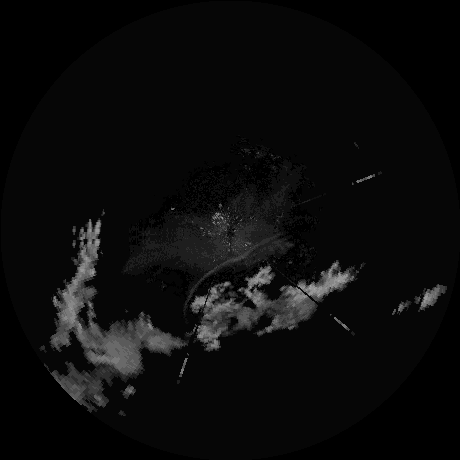frontgust: (187, 233, 282, 298)
